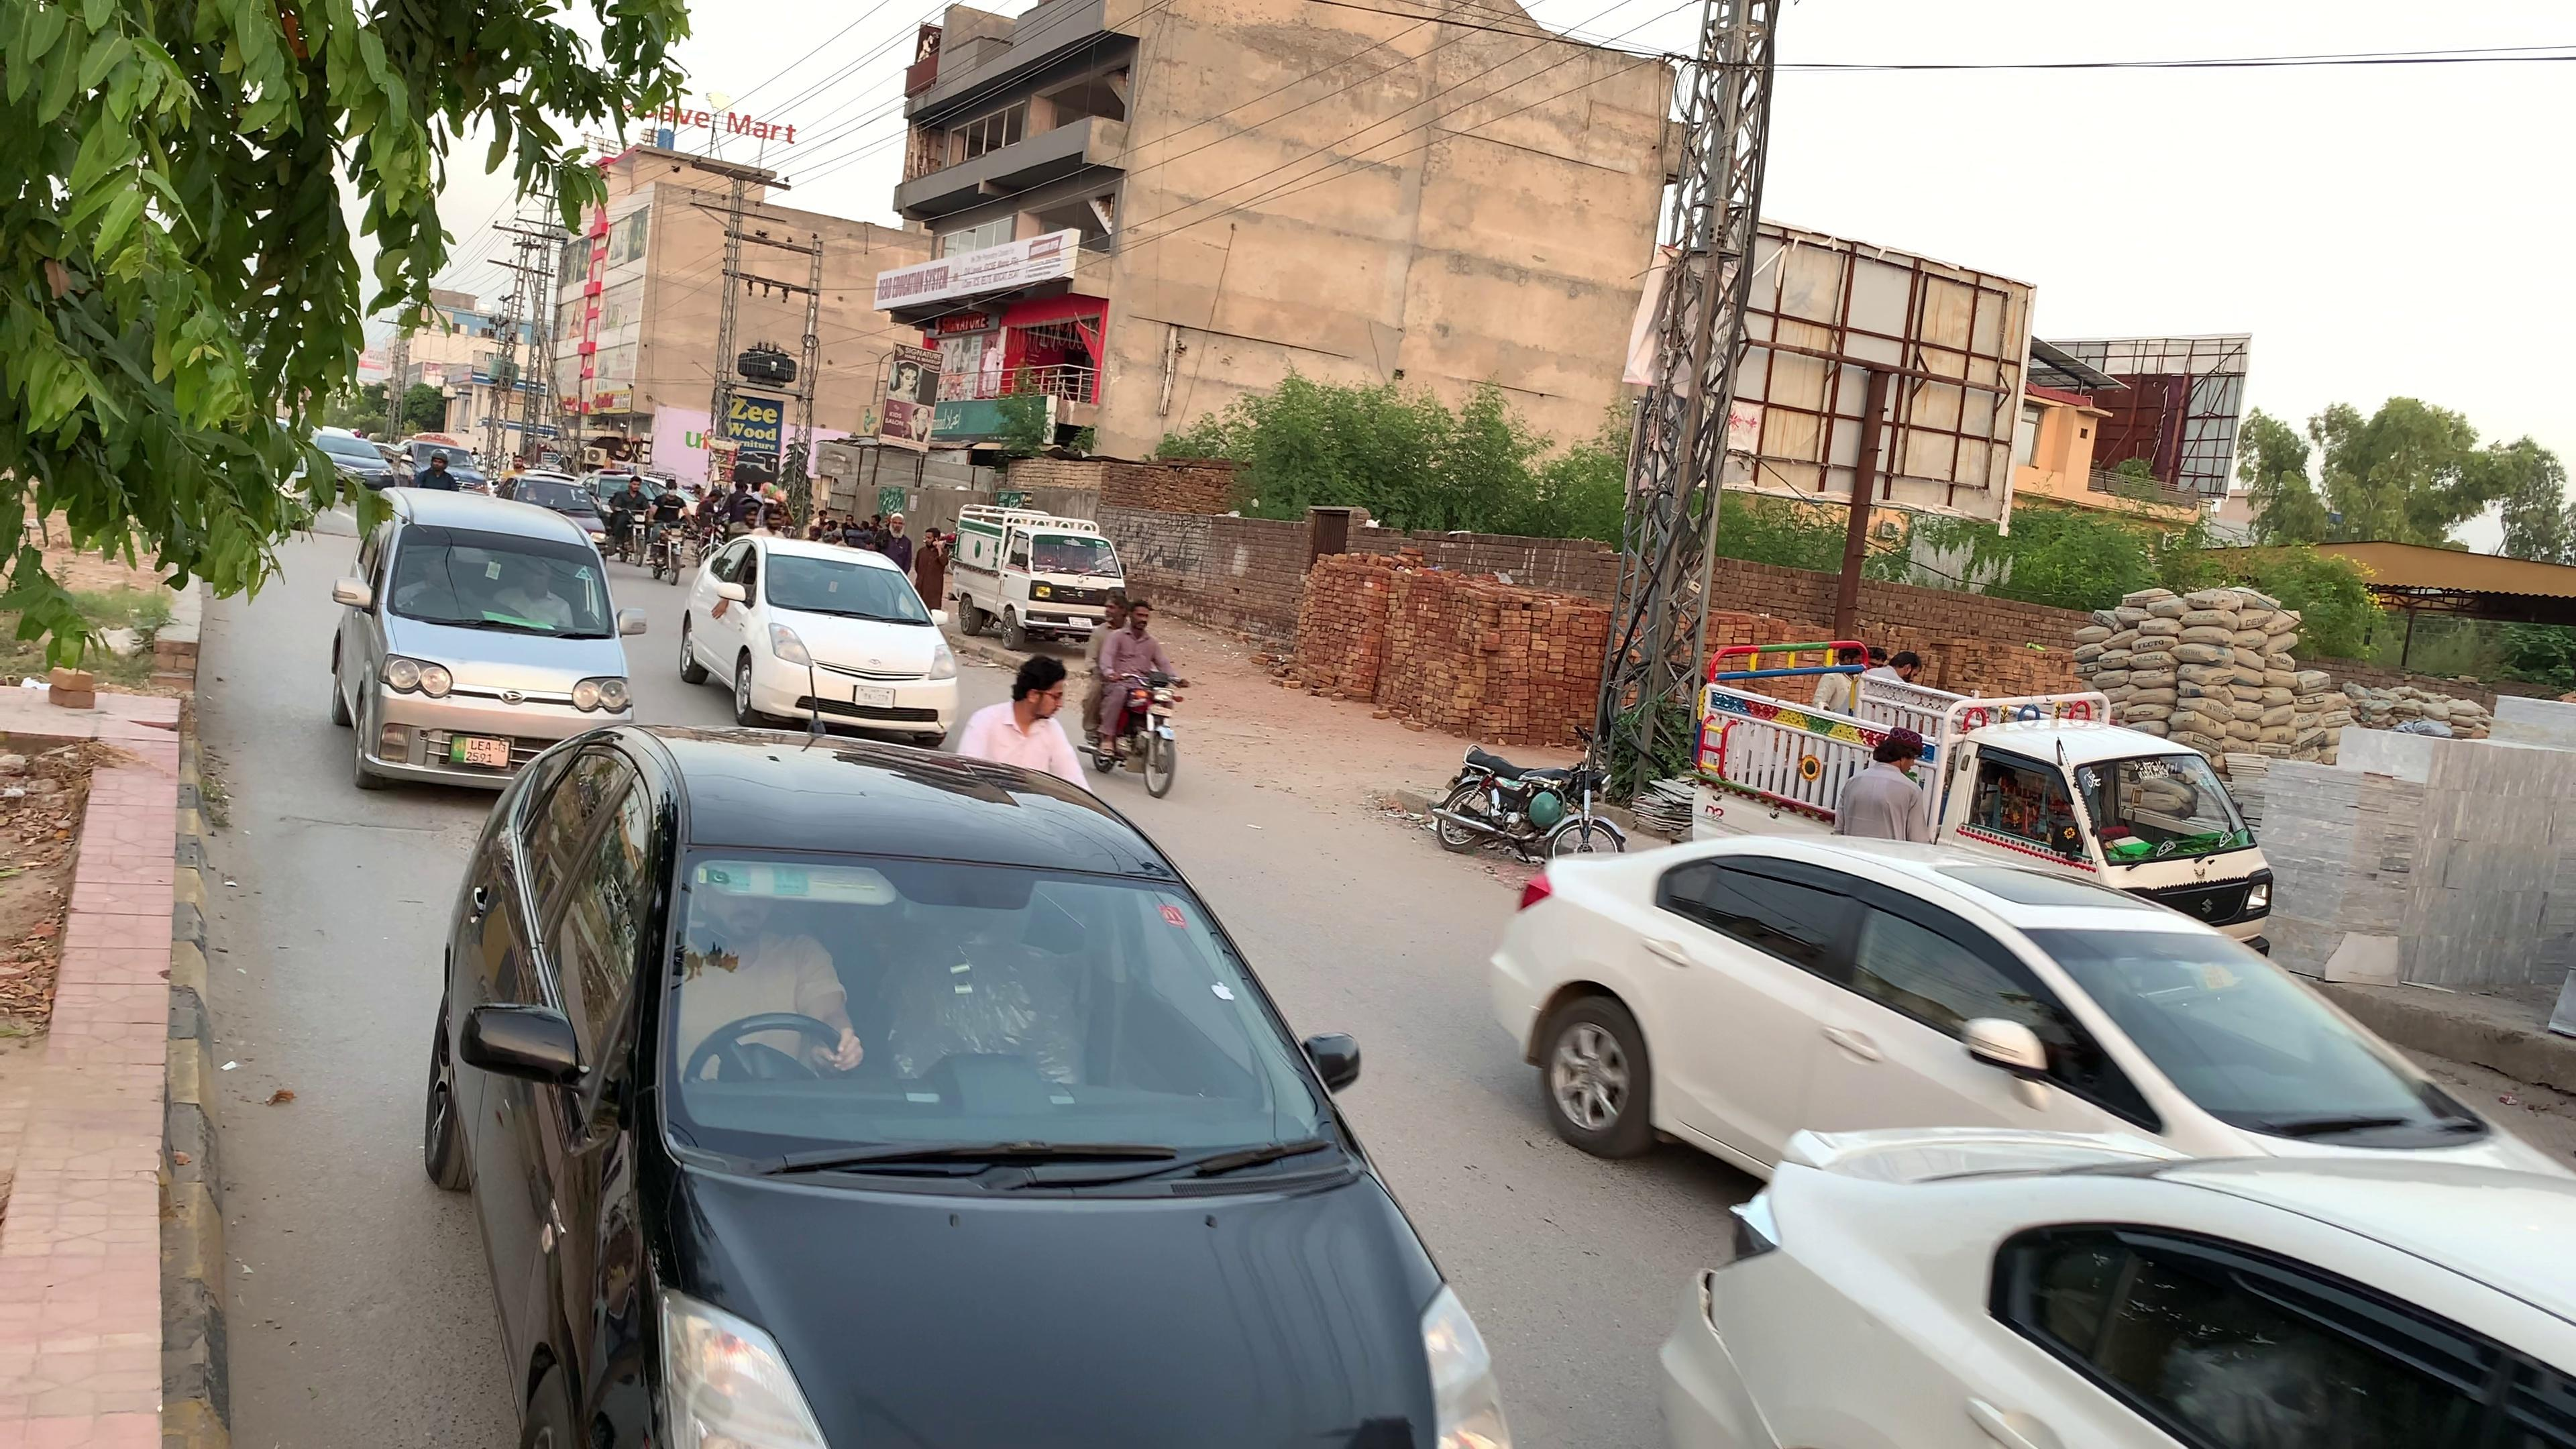windshield: (665, 835, 1373, 1194), (2017, 895, 2502, 1154), (377, 520, 632, 644)
